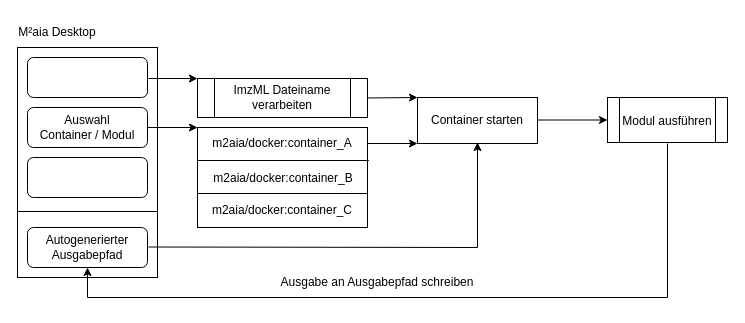
Some shapes in this 745 by 323 pixel diagram are drawn without their labels. The centre of each missing label's shape, as x and y in pixels:
"Auswahl ImzML Datei" belongs at pixel 87 77.
"Kommandozeilen-parameter" belongs at pixel 87 177.
